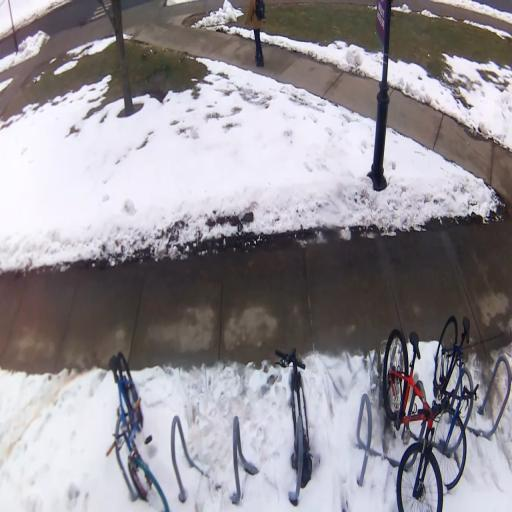pessoa: (244, 0, 268, 69)
